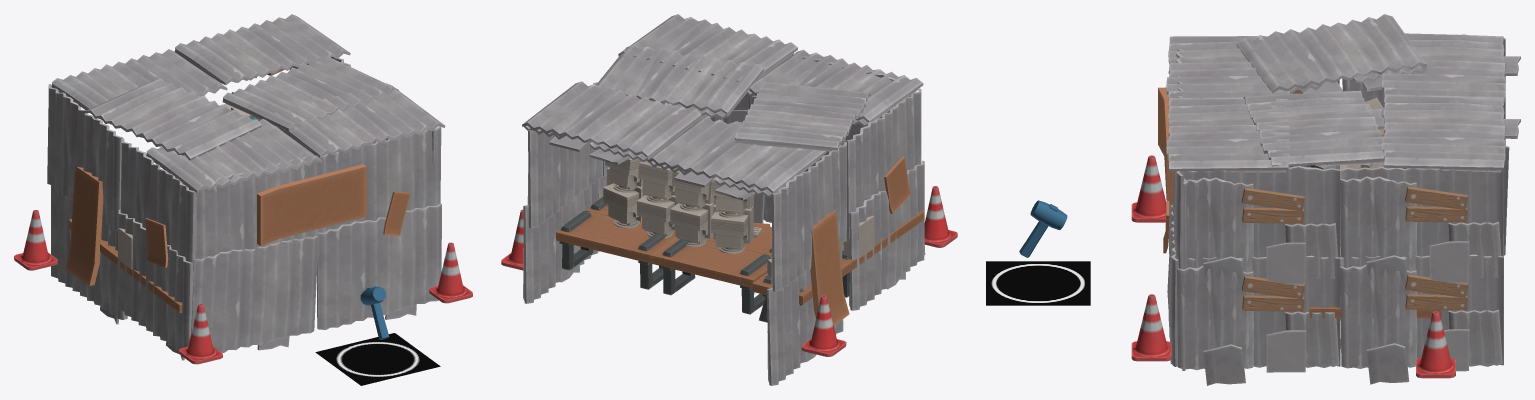
The model's file is PerkTreeInvoker.fbx.
3 renders of one model, left to right at view 1: azimuth 30°, elevation 25°; view 2: azimuth 150°, elevation 25°; view 3: azimuth 270°, elevation 25°, orthographic. The views are drawn at different scales.
Parts seen in each view (by area): view 1: Mat_MetalBoard_01_1, Mat_PaperBox_02, Mat_Roadblocks01, BuildingInteractRing, Mat_Indoors_Table_02, EdgeLight_build, Mat_Computer_01_01, Mat_MetalBoard_01_3; view 2: Mat_MetalBoard_01_1, Mat_Indoors_Table_02, Mat_Computer_01_01, Mat_Computer_01_01 _2, Mat_PaperBox_02, Mat_Roadblocks01, Mat_MetalBoard_01_3, Mat_MetalBoard_01_4; view 3: Mat_MetalBoard_01_1, Mat_MetalBoard_01_3, Mat_MetalBoard_01_4, Mat_WoodBoards_01_2, Mat_Roadblocks01, BuildingInteractRing, Mat_PaperBox_02, EdgeLight_build, Mat_Computer_01_01.
Boxes of the visible parts, x1,y1,x2,y2 form: Mat_MetalBoard_01_1: (47, 14, 445, 360); Mat_PaperBox_02: (65, 164, 410, 285); Mat_Roadblocks01: (14, 210, 472, 364); BuildingInteractRing: (315, 333, 440, 385); Mat_Indoors_Table_02: (68, 219, 182, 313); EdgeLight_build: (360, 286, 389, 339); Mat_Computer_01_01: (118, 103, 260, 269); Mat_MetalBoard_01_3: (51, 51, 342, 319); Mat_MetalBoard_01_1: (522, 14, 925, 385); Mat_Indoors_Table_02: (556, 197, 924, 322); Mat_Computer_01_01: (607, 161, 874, 257); Mat_Computer_01_01 _2: (603, 158, 843, 276); Mat_PaperBox_02: (810, 156, 911, 325); Mat_Roadblocks01: (501, 186, 957, 356); Mat_MetalBoard_01_3: (590, 52, 919, 197); Mat_MetalBoard_01_4: (523, 90, 850, 382); Mat_MetalBoard_01_1: (1166, 14, 1520, 385); Mat_MetalBoard_01_3: (1177, 44, 1504, 370); Mat_MetalBoard_01_4: (1227, 84, 1504, 367); Mat_WoodBoards_01_2: (1241, 89, 1467, 311); Mat_Roadblocks01: (1131, 155, 1455, 378); BuildingInteractRing: (986, 261, 1090, 305); Mat_PaperBox_02: (1158, 87, 1174, 253); EdgeLight_build: (1019, 200, 1067, 257); Mat_Computer_01_01: (1289, 97, 1421, 256).
Bounding box in the file's own units: 6.12 × 3.74 × 7.36.
11 materials, 11 textured.
